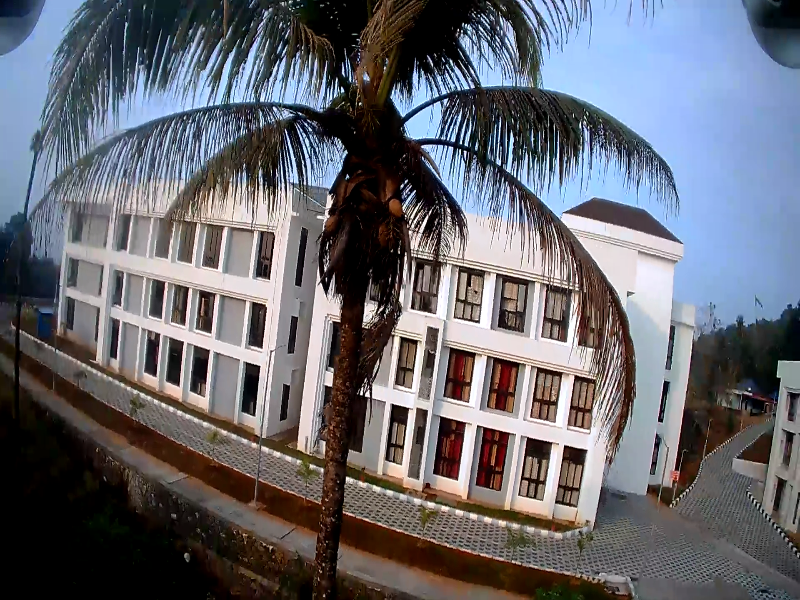coconut: (324, 213, 343, 237), (386, 198, 406, 220), (376, 221, 388, 247)
